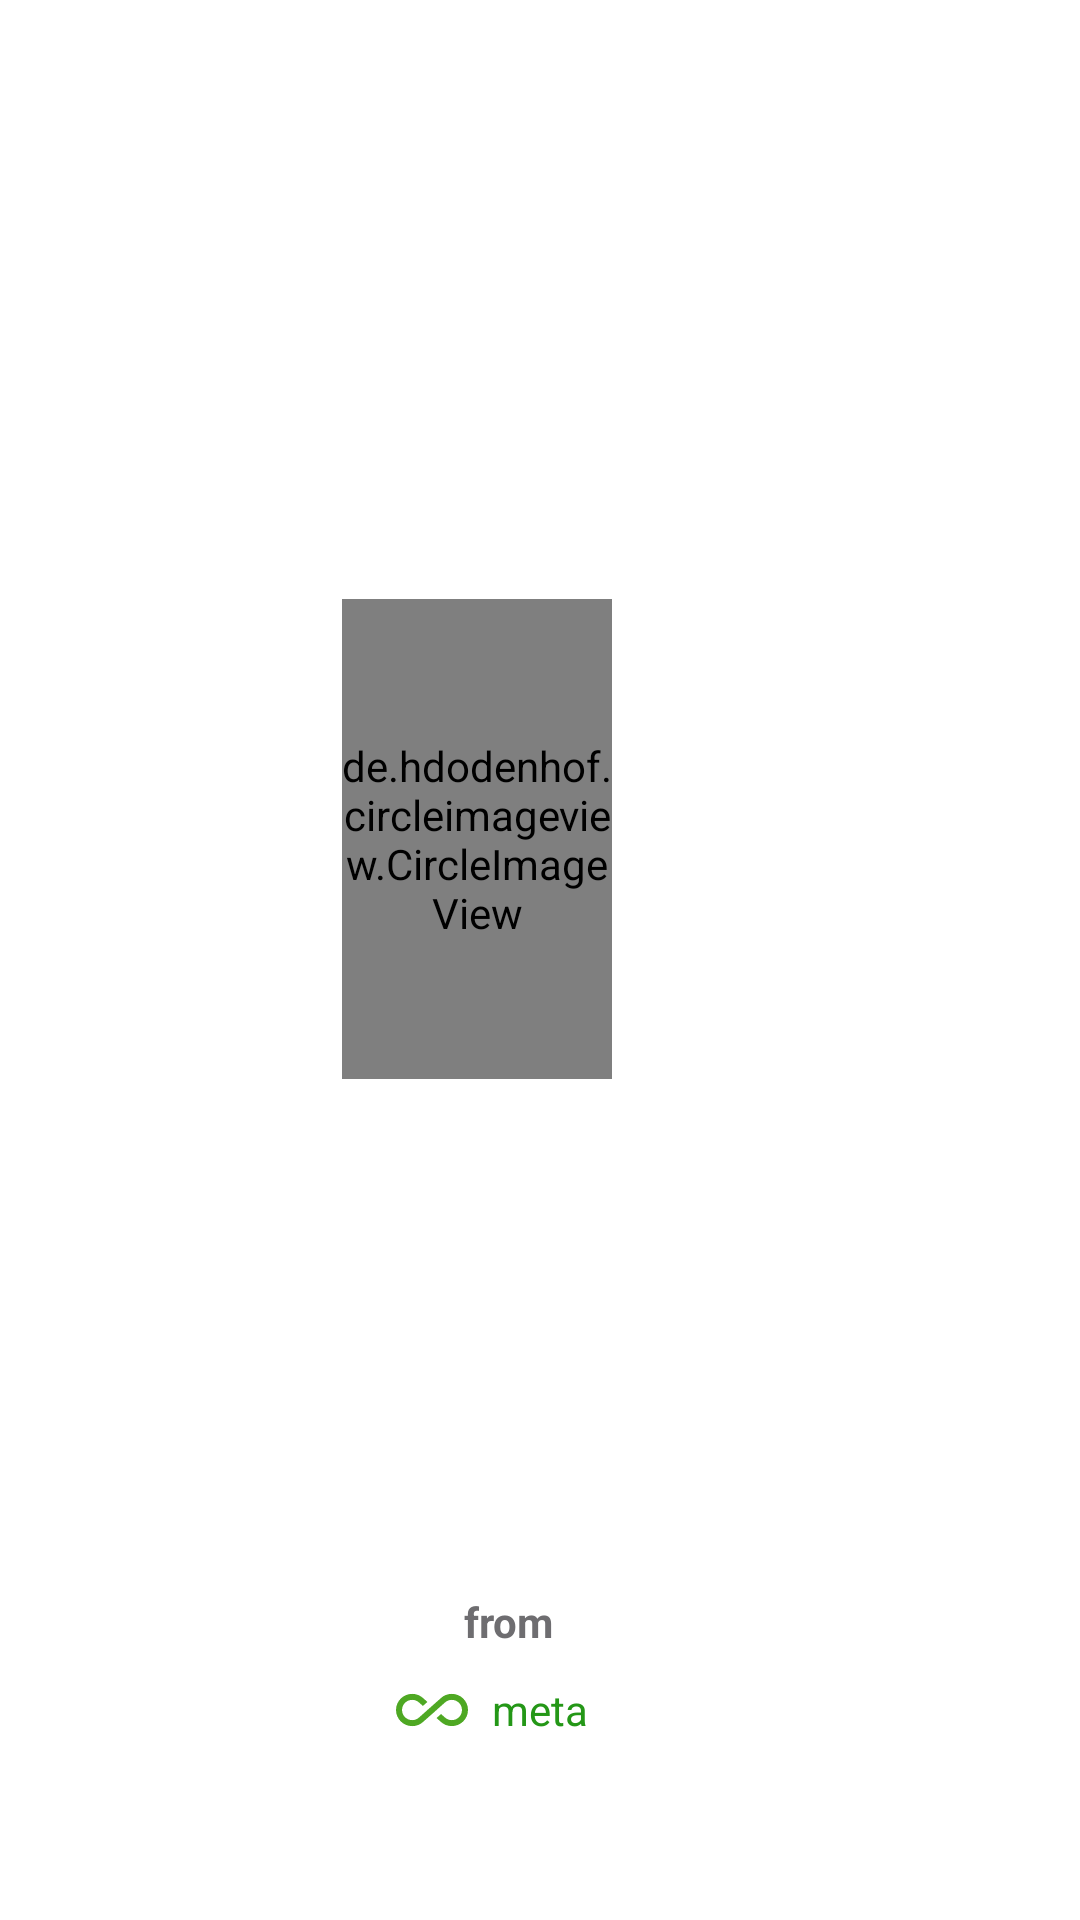

Named icons in this screenshot (1080x1920) and their bounding boxes, (x1, y1, x2, y2):
all inclusive: (396, 1694, 468, 1726)
